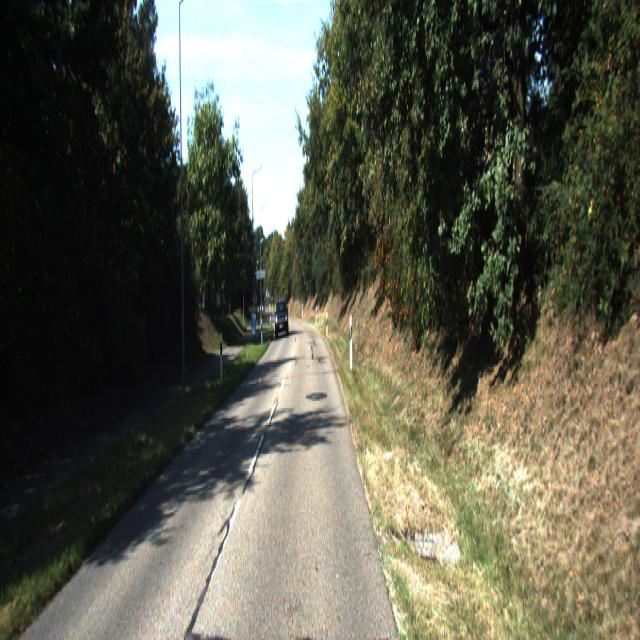Car: (274, 298, 289, 344)
